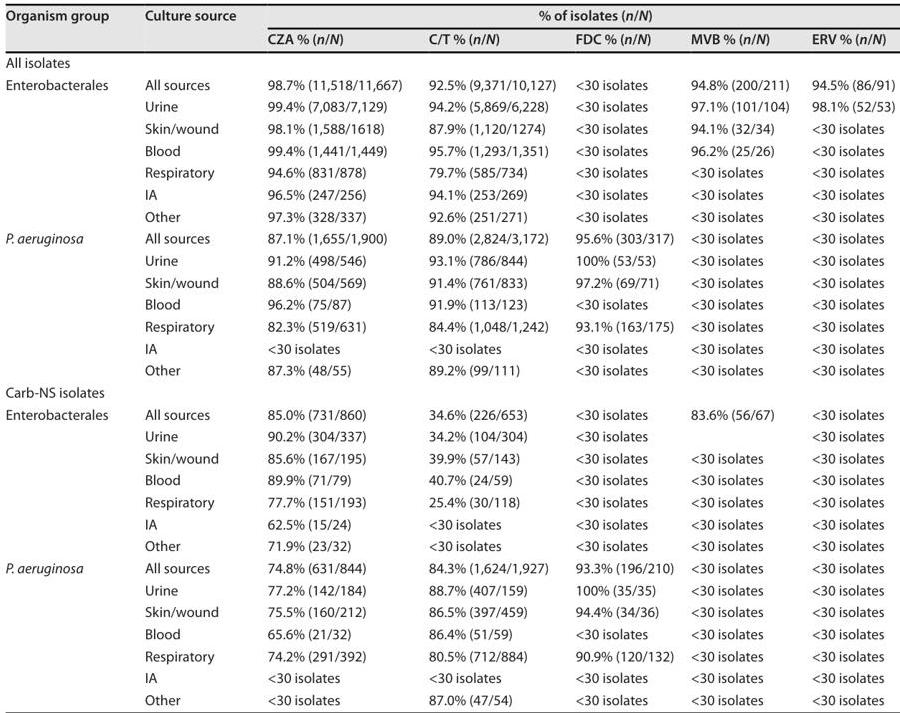table: (5, 5, 894, 708)
table column: (251, 5, 415, 708), (415, 5, 565, 708), (126, 5, 251, 708), (5, 5, 126, 708), (681, 5, 800, 708), (565, 5, 681, 708), (800, 5, 894, 708)
table column header: (5, 5, 894, 50)
table projected row header: (5, 50, 894, 73), (5, 380, 894, 402)
table row: (5, 26, 894, 50), (5, 50, 894, 73), (5, 73, 894, 95), (5, 95, 894, 117), (5, 138, 894, 160), (5, 160, 894, 182), (5, 182, 894, 204), (5, 204, 894, 226), (5, 226, 894, 248), (5, 248, 894, 270), (5, 270, 894, 292), (5, 292, 894, 314), (5, 314, 894, 336), (5, 336, 894, 358), (5, 358, 894, 380), (5, 380, 894, 402), (5, 402, 894, 424), (5, 424, 894, 446), (5, 446, 894, 468), (5, 468, 894, 490), (5, 490, 894, 512), (5, 512, 894, 534), (5, 534, 894, 556), (5, 556, 894, 578), (5, 578, 894, 600), (5, 600, 894, 622), (5, 622, 894, 644), (5, 644, 894, 666), (5, 666, 894, 688), (5, 5, 894, 26), (5, 117, 894, 138), (5, 688, 894, 708)
table spanning cell: (5, 226, 126, 380), (5, 402, 126, 556), (5, 73, 126, 226), (5, 556, 126, 708), (251, 5, 894, 26), (126, 5, 251, 50), (5, 5, 126, 50)
